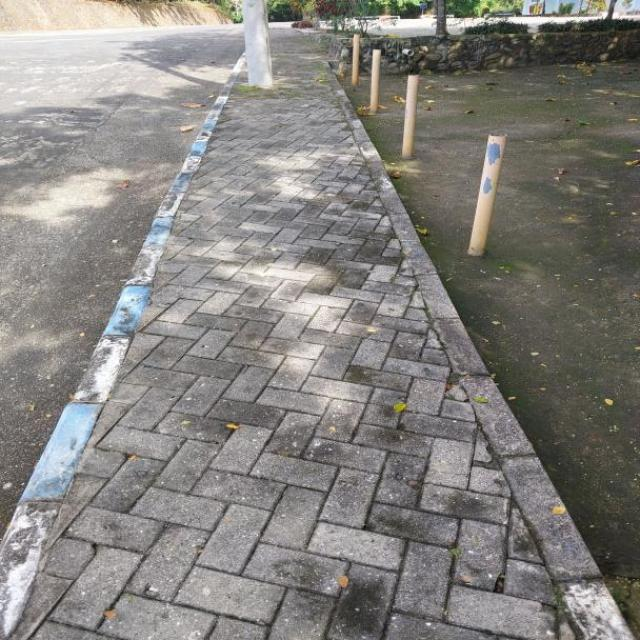barrier ahead at: (466, 129, 506, 258), (399, 66, 423, 162), (364, 49, 384, 111)
